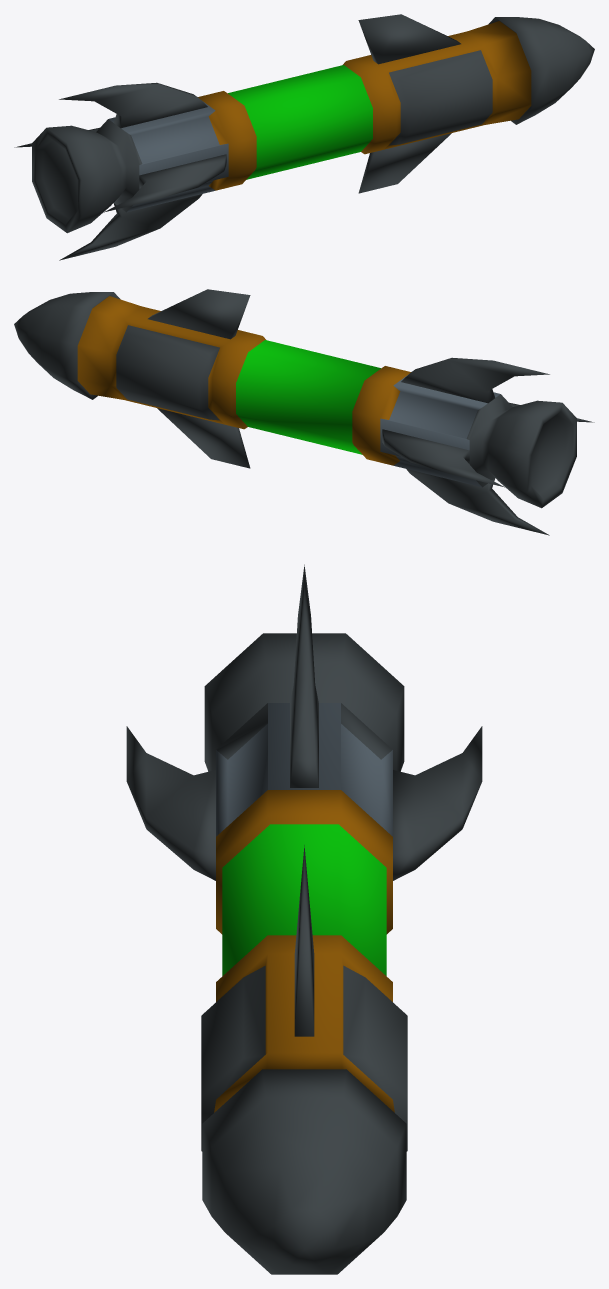
The model's file is Missil.obj.
The picture shows the model from 3 angles, top to bottom: view 1: azimuth 30°, elevation 25°; view 2: azimuth 150°, elevation 25°; view 3: azimuth 270°, elevation 25°; orthographic projection. The views are drawn at different scales.
Visible parts, largest first — view 1: Missel.001_Trackless_Engine.004_Cylinder.000; view 2: Missel.001_Trackless_Engine.004_Cylinder.000; view 3: Missel.001_Trackless_Engine.004_Cylinder.000.
Boxes of the visible parts, x1,y1,x2,y2 form: Missel.001_Trackless_Engine.004_Cylinder.000: [14, 14, 594, 260]; Missel.001_Trackless_Engine.004_Cylinder.000: [14, 289, 594, 535]; Missel.001_Trackless_Engine.004_Cylinder.000: [126, 564, 482, 1274].
Size of the model in its own units: 2.23 by 0.6887 by 0.6398.
1 material, 1 textured.
